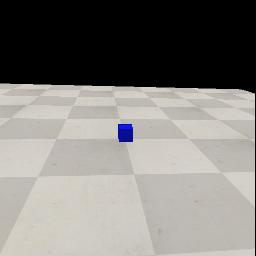box: (118, 124, 133, 142)
